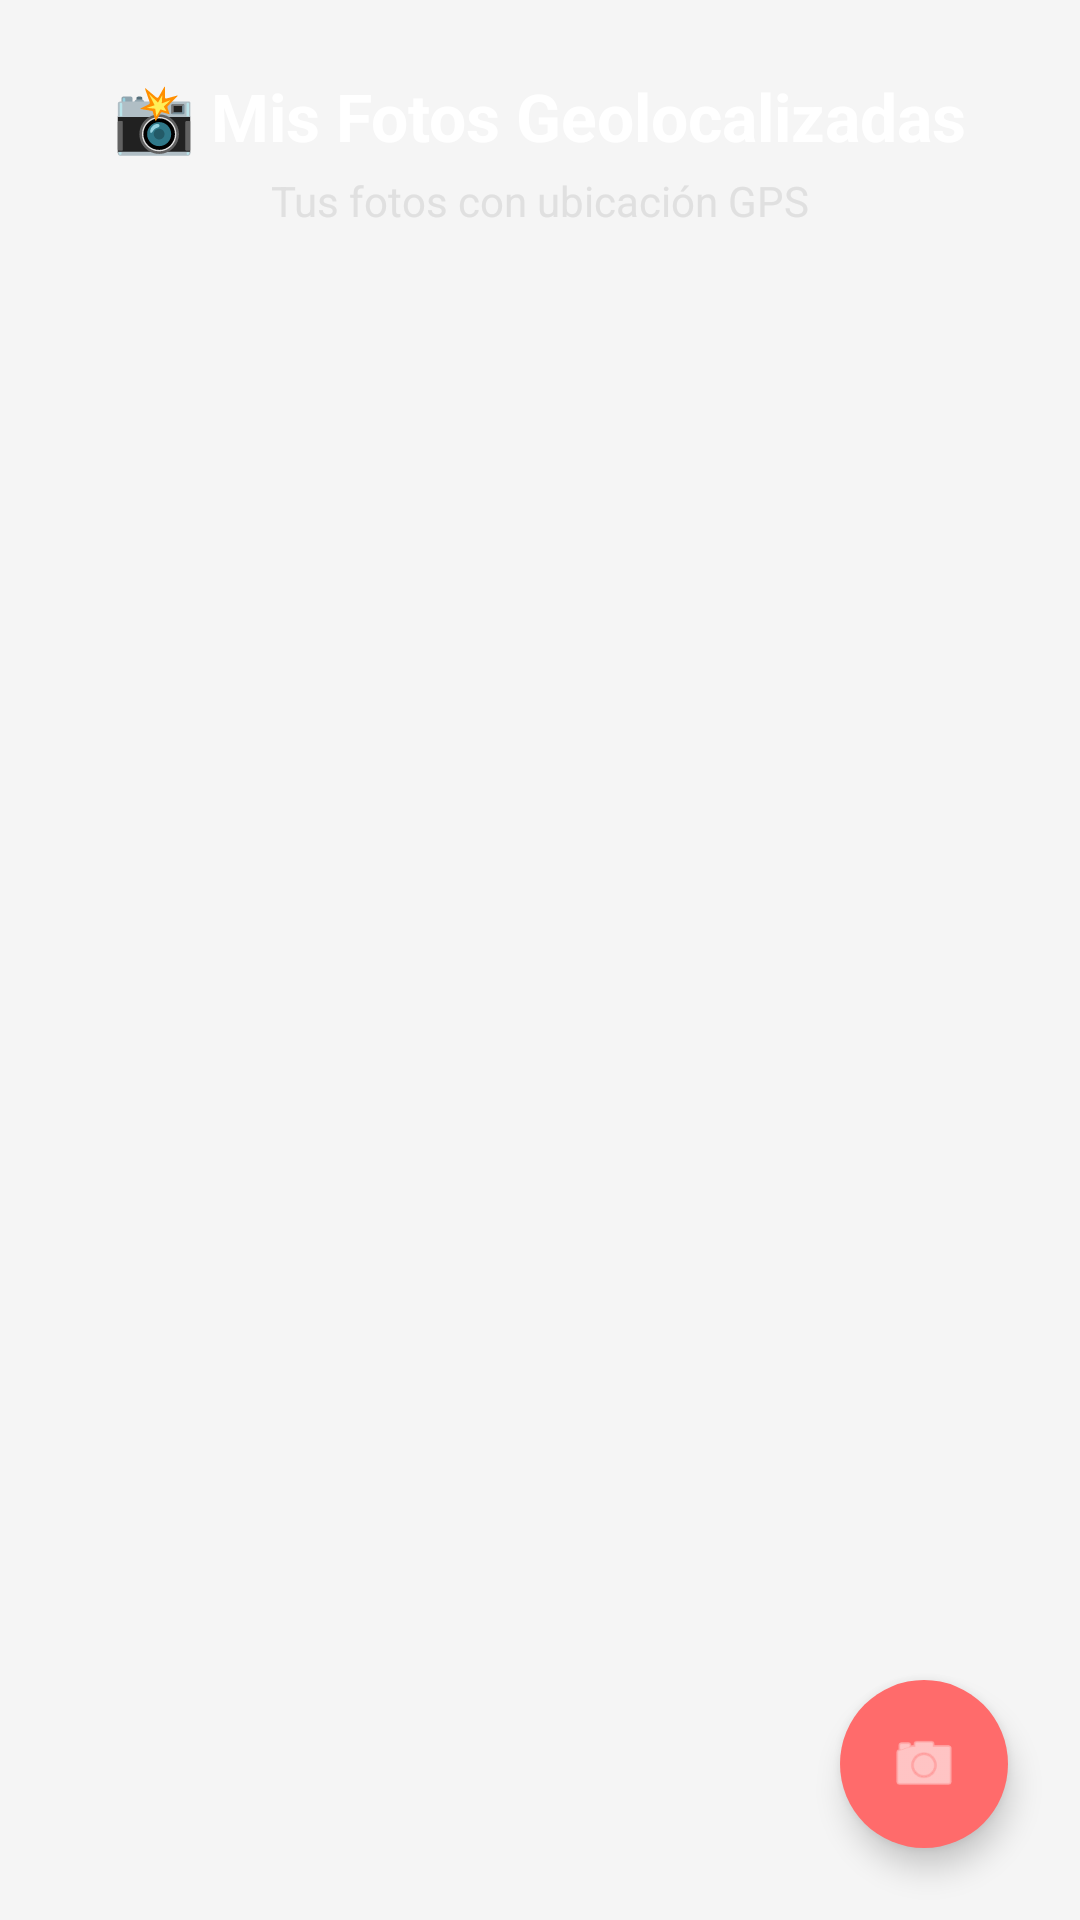

Named icons in this screenshot (1080px×1920px) and their centers, point (x, y):
Tomar Foto: point (924, 1764)
